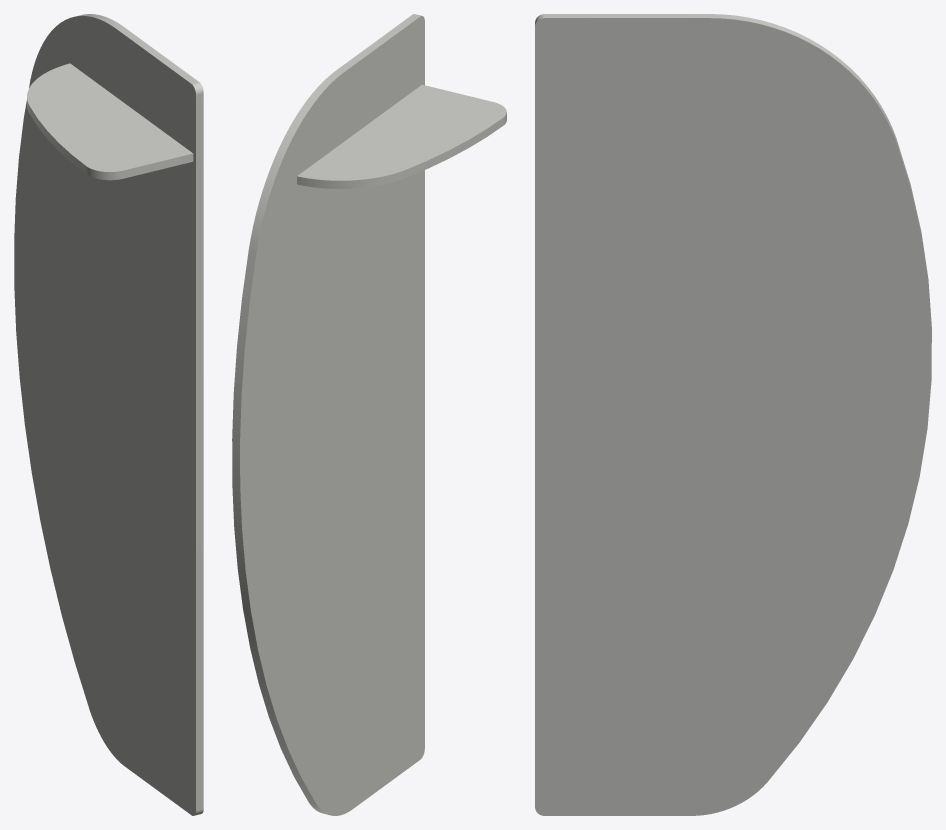
The model's file is DivisóriaMictórioBanheiro.fbx.
3 views of the same model, side by side, from view 1: azimuth 30°, elevation 25°; view 2: azimuth 150°, elevation 25°; view 3: azimuth 270°, elevation 25° (orthographic). The views are drawn at different scales.
Visible parts, largest first — view 1: divis%C3%B3ria neocom%2Edwg, TVM Lateral; view 2: divis%C3%B3ria neocom%2Edwg, TVM Lateral; view 3: divis%C3%B3ria neocom%2Edwg.
Boxes of the visible parts, x1,y1,x2,y2 form: divis%C3%B3ria neocom%2Edwg: (14, 14, 203, 815); TVM Lateral: (27, 63, 193, 180); divis%C3%B3ria neocom%2Edwg: (232, 14, 424, 815); TVM Lateral: (297, 84, 506, 188); divis%C3%B3ria neocom%2Edwg: (535, 14, 931, 815).
Bounding box in the file's own units: 130 × 900 × 406.
Materials: 1 (1 with a texture image).
